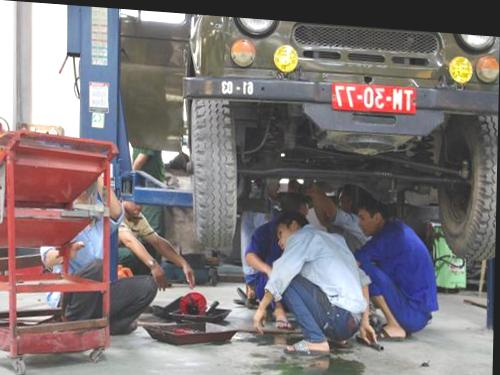License_Plate: (331, 80, 419, 117)
